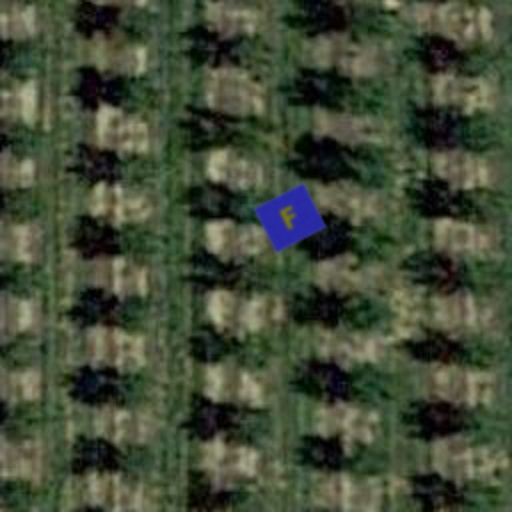rectangle: (252, 180, 328, 256)
